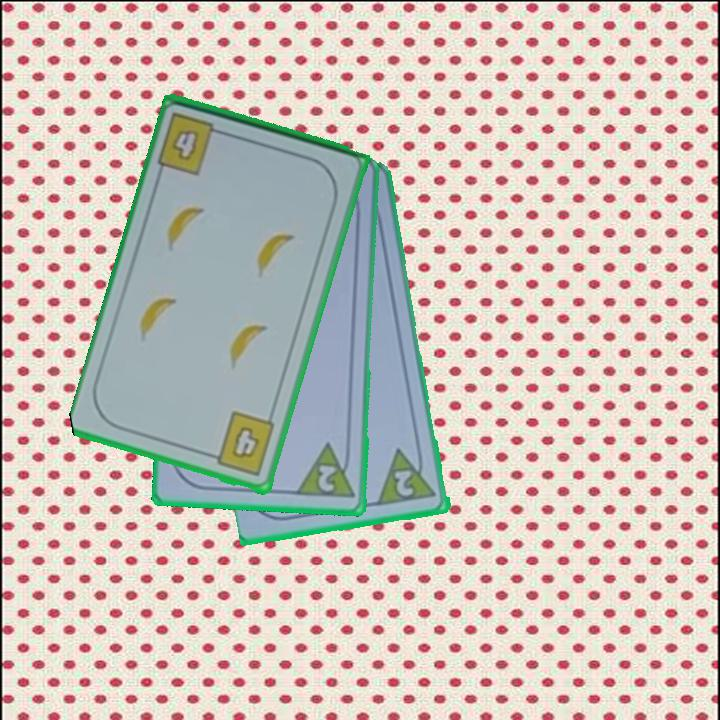2p: (375, 443, 440, 509), (293, 440, 358, 502)
4b: (154, 109, 231, 179), (204, 409, 278, 480)
